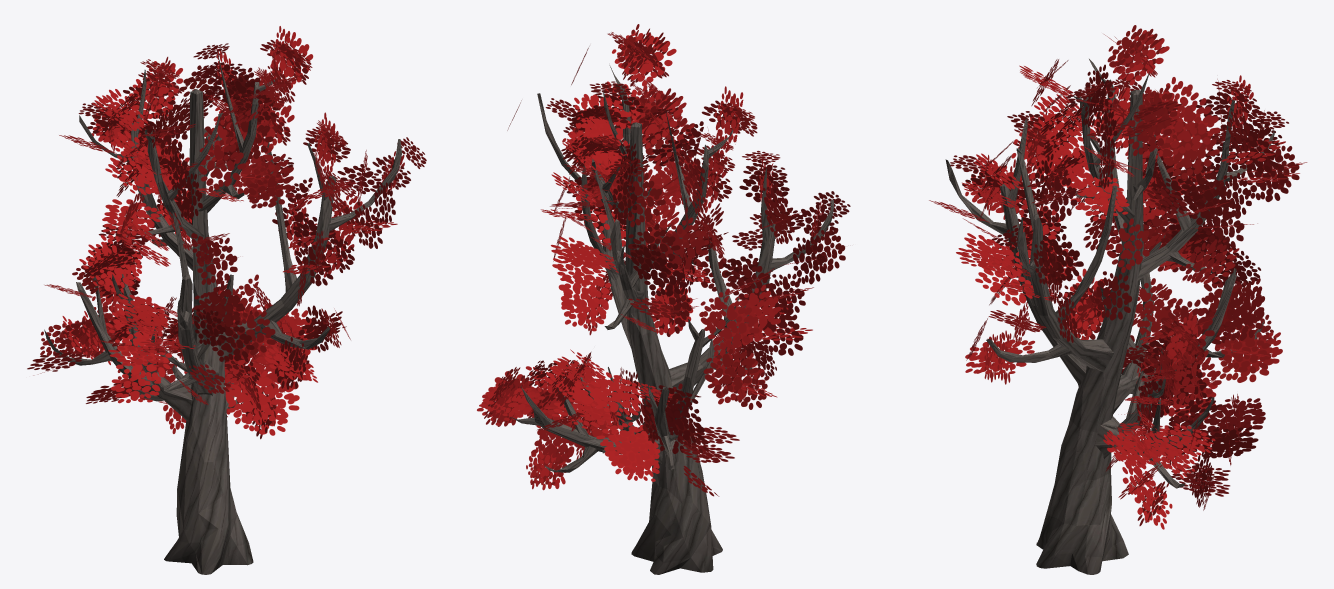
File: twisted-tree.glb
3 renders of one model, left to right at view 1: azimuth 30°, elevation 25°; view 2: azimuth 150°, elevation 25°; view 3: azimuth 270°, elevation 25°, orthographic. The views are drawn at different scales.
Parts seen in each view (by area): view 1: TwistedTree_3; view 2: TwistedTree_3; view 3: TwistedTree_3.
Part boxes in pixels (x1=…): TwistedTree_3: x1=27, y1=26, x2=426, y2=574; TwistedTree_3: x1=477, y1=24, x2=850, y2=574; TwistedTree_3: x1=929, y1=25, x2=1307, y2=574.
Size of the model in its own units: 11.06 by 16.07 by 11.35.
2 materials, 2 textured.
